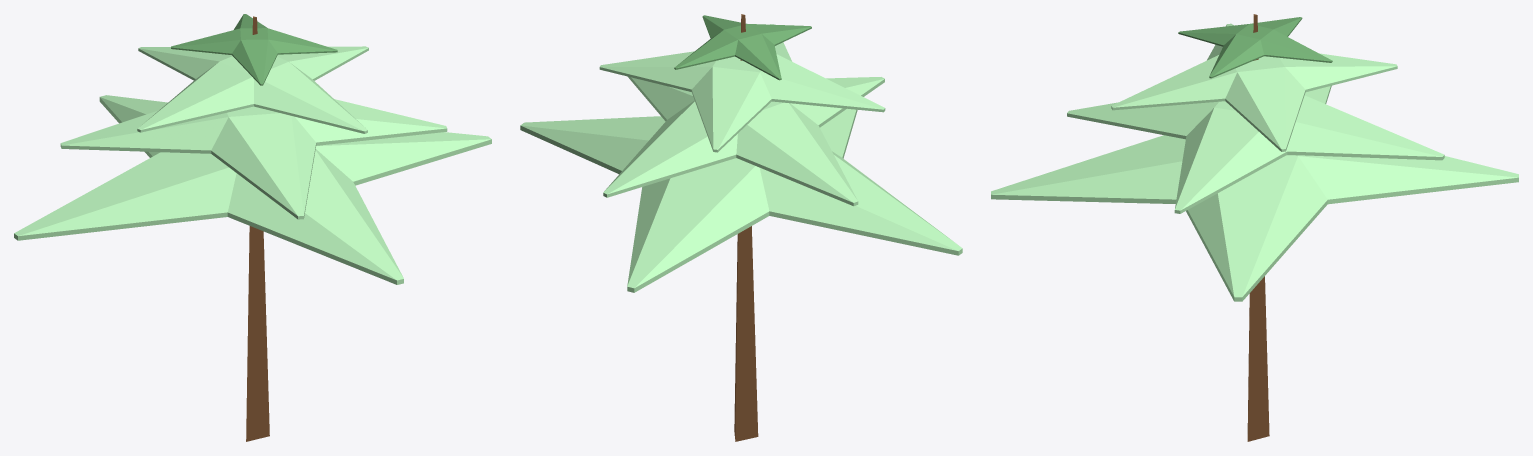
File: 4_pointed_tree.fbx
3 views of the same model, side by side, from view 1: azimuth 30°, elevation 25°; view 2: azimuth 150°, elevation 25°; view 3: azimuth 270°, elevation 25° (orthographic).
Parts seen in each view (by area): view 1: 4-pointed tree.001, 4-pointed tree.002, 4-pointed tree, tree tall trunk, 4-pointed tree.003; view 2: 4-pointed tree.001, 4-pointed tree.002, 4-pointed tree, tree tall trunk, 4-pointed tree.003; view 3: 4-pointed tree.001, 4-pointed tree.002, 4-pointed tree, 4-pointed tree.003, tree tall trunk.
Boxes of the visible parts, x1,y1,x2,y2 form: 4-pointed tree.001: (14, 95, 491, 284); 4-pointed tree.002: (60, 99, 447, 219); 4-pointed tree: (137, 46, 368, 133); tree tall trunk: (246, 16, 269, 441); 4-pointed tree.003: (171, 14, 337, 85); 4-pointed tree.001: (520, 108, 962, 292); 4-pointed tree.002: (603, 76, 884, 206); 4-pointed tree: (599, 24, 885, 152); tree tall trunk: (734, 14, 758, 441); 4-pointed tree.003: (674, 15, 811, 80); 4-pointed tree.001: (991, 135, 1518, 301); 4-pointed tree.002: (1067, 85, 1444, 213); 4-pointed tree: (1111, 23, 1397, 151); 4-pointed tree.003: (1178, 17, 1332, 78); tree tall trunk: (1247, 14, 1269, 441).
Bounding box in the file's own units: 4.83 × 4.25 × 4.83.
3 materials, 3 textured.
